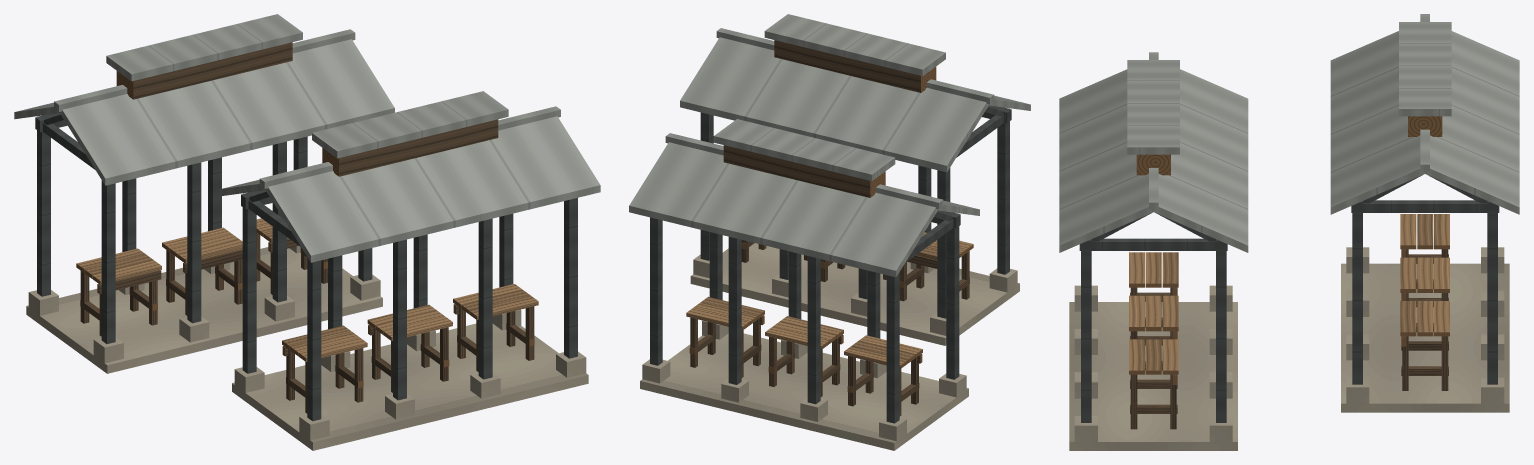
Rendered from bissau.glb.
3 views of the same model, side by side, from view 1: azimuth 30°, elevation 25°; view 2: azimuth 150°, elevation 25°; view 3: azimuth 270°, elevation 25° (orthographic). The views are drawn at different scales.
Visible parts, largest first — view 1: bissau; view 2: bissau; view 3: bissau.
Part boxes in pixels (left/top/right/bottom): bissau: left=14, top=14, right=600, bottom=450; bissau: left=629, top=14, right=1030, bottom=450; bissau: left=1059, top=14, right=1519, bottom=450.
Bounding box in the file's own units: 3.65 × 2.5 × 3.76.
Materials: 1 (1 with a texture image).
